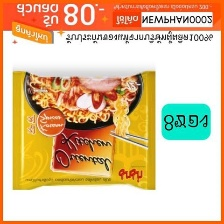snack: (6, 64, 161, 199)
